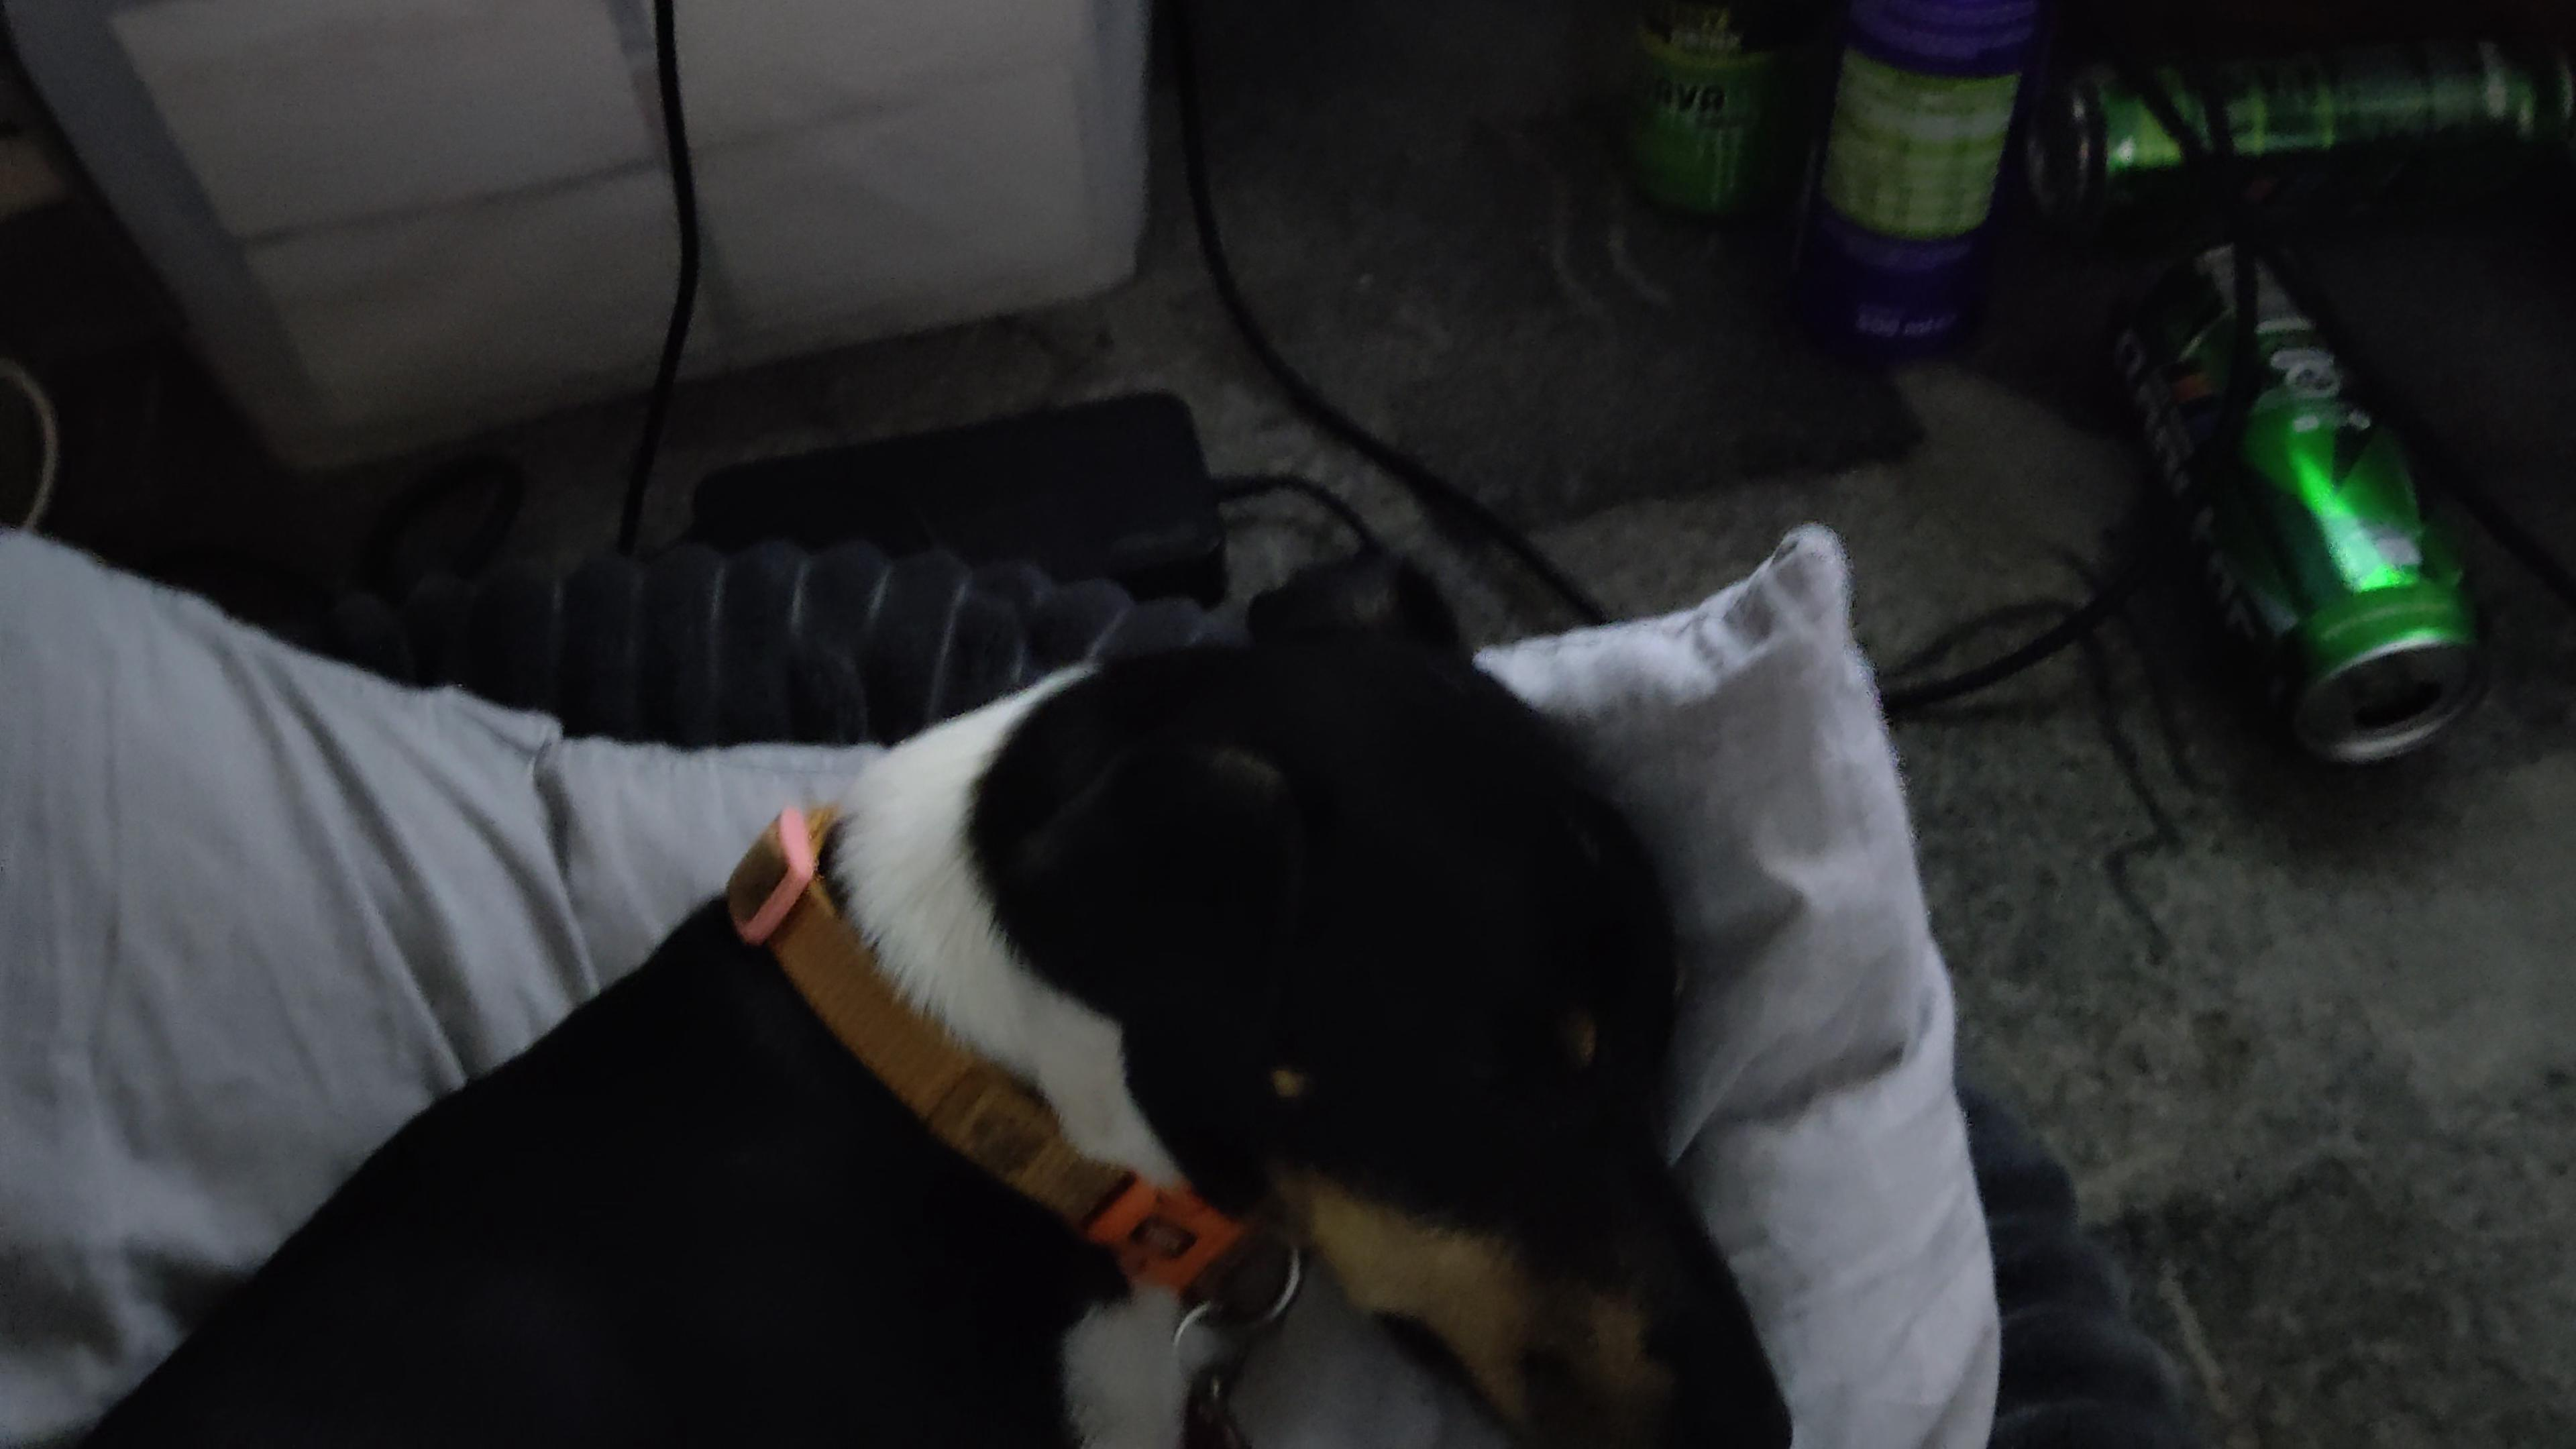Dog: (64, 533, 1819, 1449)
